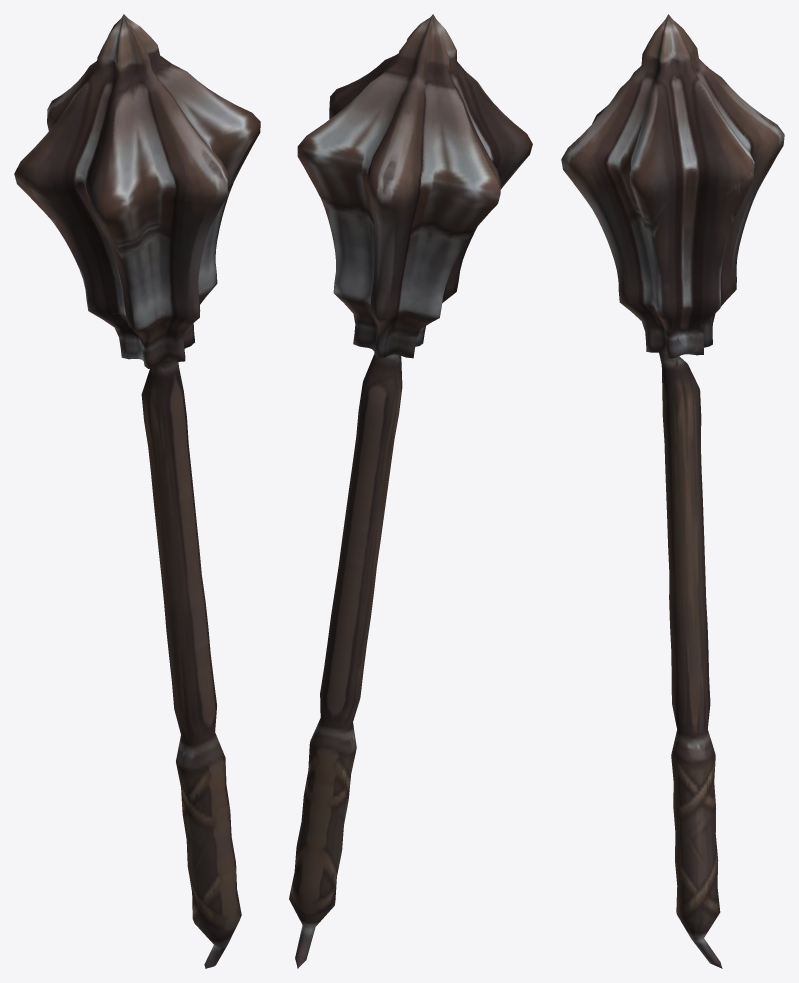
File: mace.glb
The picture shows the model from 3 angles, left to right: view 1: azimuth 30°, elevation 25°; view 2: azimuth 150°, elevation 25°; view 3: azimuth 270°, elevation 25°; orthographic projection. The views are drawn at different scales.
Parts seen in each view (by area): view 1: mace_grip1; view 2: mace_grip1; view 3: mace_grip1.
Boxes of the visible parts, bbox=[...] form: mace_grip1: bbox=[14, 14, 260, 968]; mace_grip1: bbox=[289, 14, 532, 968]; mace_grip1: bbox=[561, 14, 784, 968].
Bounding box in the file's own units: 0.1696 × 0.7364 × 0.1647.
Materials: 1 (1 with a texture image).
